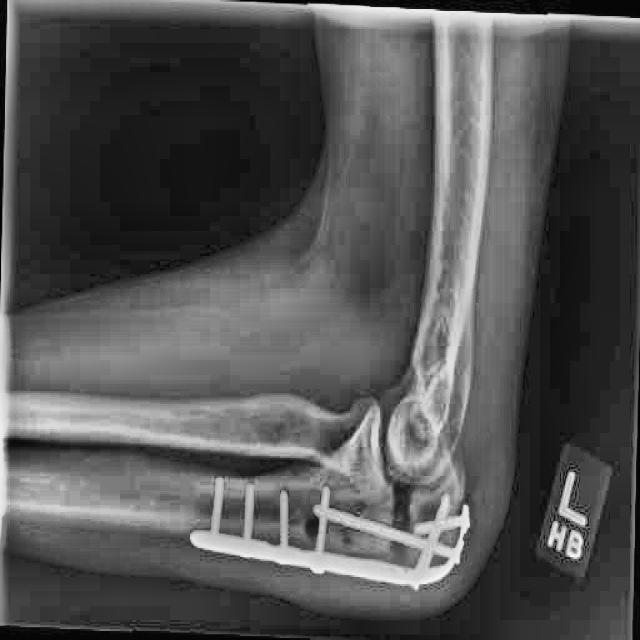elbow positive: (381, 479, 432, 531)
